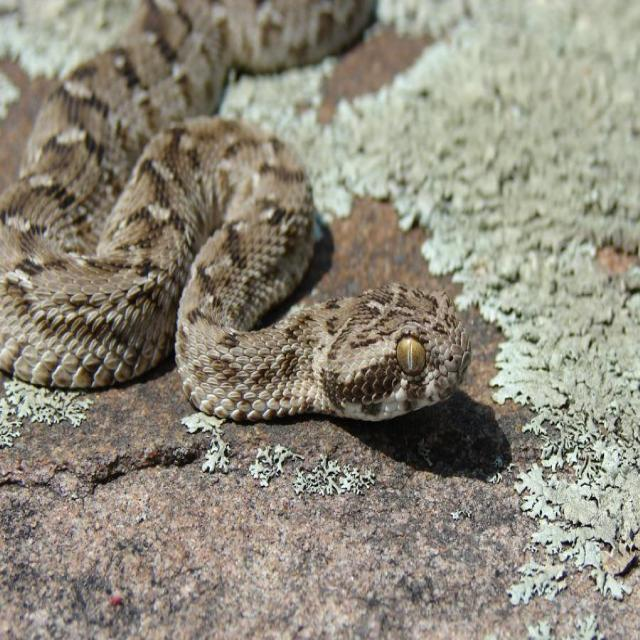Snake: (0, 0, 471, 423)
